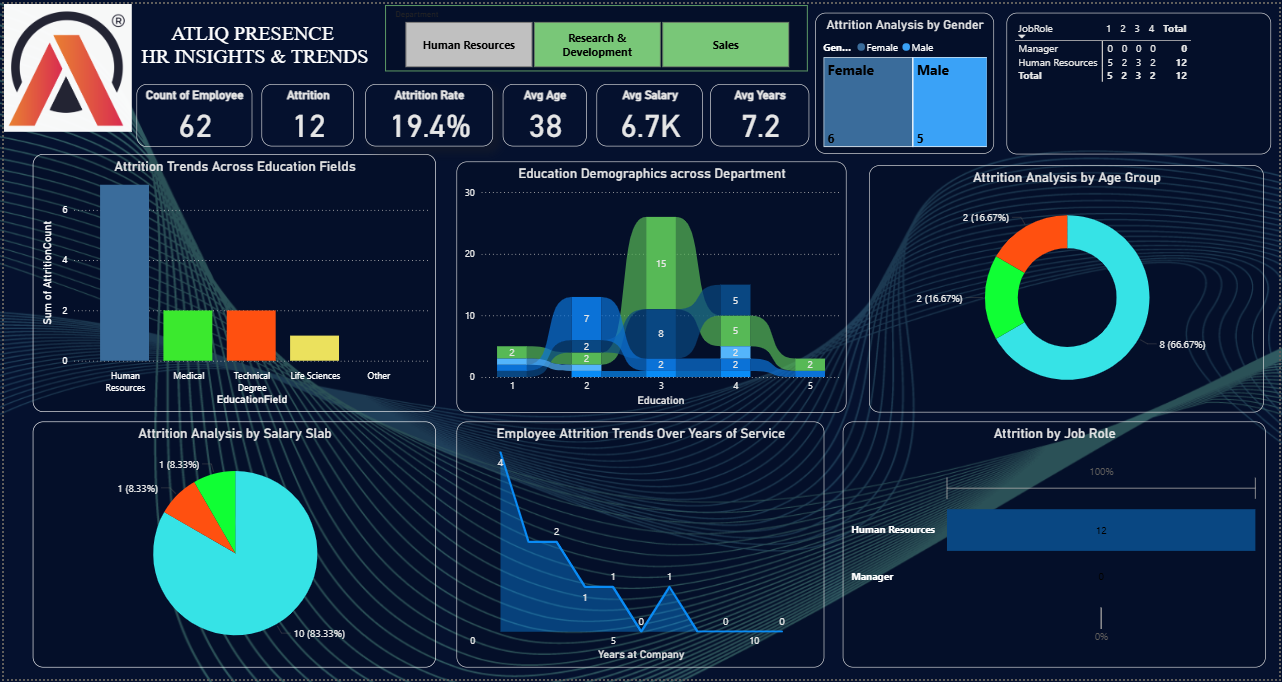

This screenshot's page, from the dashboard's own definition file:
{"tool":"powerbi","page":{"name":"Page 2","canvas":[1700,900],"ordinal":0},"visuals":[{"type":"clusteredColumnChart","title":"Attrition Trends Across Education Fields","fields":{"Category":["HR_Analytics.EducationField"],"Y":["Sum(HR_Analytics.AttritionCount)"]},"box":[37.7,200,537.7,344.3],"z":0},{"type":"card","title":"Count of Employee","fields":{"Values":["CountNonNull(HR_Analytics.EmpID)"]},"box":[177.1,107.1,154.1,83.6],"z":1000},{"type":"card","title":"Attrition","fields":{"Values":["Sum(HR_Analytics.AttritionCount)"]},"box":[344,107,123.3,83.3],"z":2000},{"type":"card","title":"Attrition Rate","fields":{"Values":["HR_Analytics.AttritionRate"]},"box":[482.3,107,170,83.3],"z":3000},{"type":"card","title":"Avg Age","fields":{"Values":["Avg(HR_Analytics.Age)"]},"box":[665.6,107,111.7,83.3],"z":4000},{"type":"card","title":"Avg Salary","fields":{"Values":["Avg(HR_Analytics.MonthlyIncome)"]},"box":[790.6,107,141.7,83.3],"z":5000},{"type":"card","title":"Avg Years","fields":{"Values":["Avg(HR_Analytics.YearsAtCompany)"]},"box":[942.3,107,131.7,83.3],"z":6000},{"type":"pivotTable","fields":{"Rows":["HR_Analytics.JobRole"],"Columns":["HR_Analytics.JobSatisfaction"],"Values":["Sum(HR_Analytics.AttritionCount)"]},"box":[1336.1,11.5,352.5,188.5],"z":7000},{"type":"treemap","title":"Attrition Analysis by Gender","fields":{"Values":["Sum(HR_Analytics.AttritionCount)"],"Details":["HR_Analytics.Gender"]},"box":[1081.8,11.8,238.2,188.2],"z":8000},{"type":"slicer","fields":{"Values":["HR_Analytics.Department"]},"box":[508.3,1.7,563.3,88.3],"z":9000},{"type":"textbox","box":[168.2,1.9,332.8,103.3],"z":10000},{"type":"donutChart","title":"Attrition Analysis by Age Group","fields":{"Category":["HR_Analytics.AgeGroup"],"Y":["Sum(HR_Analytics.AttritionCount)"]},"box":[1154.1,214.8,526.2,329.5],"z":11000},{"type":"ribbonChart","title":"Education Demographics across Department ","fields":{"Y":["CountNonNull(HR_Analytics.Department)"],"Category":["HR_Analytics.Education"],"Series":["HR_Analytics.EducationField"]},"box":[602.9,209.3,520,335],"z":12000},{"type":"pieChart","title":"Attrition Analysis by Salary Slab","fields":{"Category":["HR_Analytics.SalarySlab"],"Y":["Sum(HR_Analytics.AttritionCount)"]},"box":[37.7,557.4,537.7,327.9],"z":13000},{"type":"areaChart","title":"Employee Attrition Trends Over Years of Service","fields":{"Category":["HR_Analytics.YearsAtCompany"],"Y":["Sum(HR_Analytics.AttritionCount)"]},"box":[603.3,557.4,490.2,327.9],"z":14000},{"type":"funnel","title":"Attrition by Job Role","fields":{"Category":["HR_Analytics.JobRole"],"Y":["Sum(HR_Analytics.AttritionCount)"]},"box":[1118,557.4,563.9,327.9],"z":15000},{"type":"image","box":[0,0,170.5,170.5],"z":16000}]}

Visuals, with their boxes in screenshot pixels (x1, y1, x2, y2), scaled from the page's 1700x900 canvas onto the 1282x682 screenshot:
"Attrition Trends Across Education Fields" clusteredColumnChart: [left=28, top=152, right=434, bottom=412]
"Count of Employee" card: [left=134, top=81, right=250, bottom=145]
"Attrition" card: [left=259, top=81, right=352, bottom=144]
"Attrition Rate" card: [left=364, top=81, right=492, bottom=144]
"Avg Age" card: [left=502, top=81, right=586, bottom=144]
"Avg Salary" card: [left=596, top=81, right=703, bottom=144]
"Avg Years" card: [left=711, top=81, right=810, bottom=144]
pivotTable - HR_Analytics.JobRole x HR_Analytics.JobSatisfaction: [left=1008, top=9, right=1273, bottom=152]
"Attrition Analysis by Gender" treemap: [left=816, top=9, right=995, bottom=152]
slicer - HR_Analytics.Department: [left=383, top=1, right=808, bottom=68]
textbox: [left=127, top=1, right=378, bottom=80]
"Attrition Analysis by Age Group" donutChart: [left=870, top=163, right=1267, bottom=412]
"Education Demographics across Department " ribbonChart: [left=455, top=159, right=847, bottom=412]
"Attrition Analysis by Salary Slab" pieChart: [left=28, top=422, right=434, bottom=671]
"Employee Attrition Trends Over Years of Service" areaChart: [left=455, top=422, right=825, bottom=671]
"Attrition by Job Role" funnel: [left=843, top=422, right=1268, bottom=671]
image: [left=0, top=0, right=129, bottom=129]
